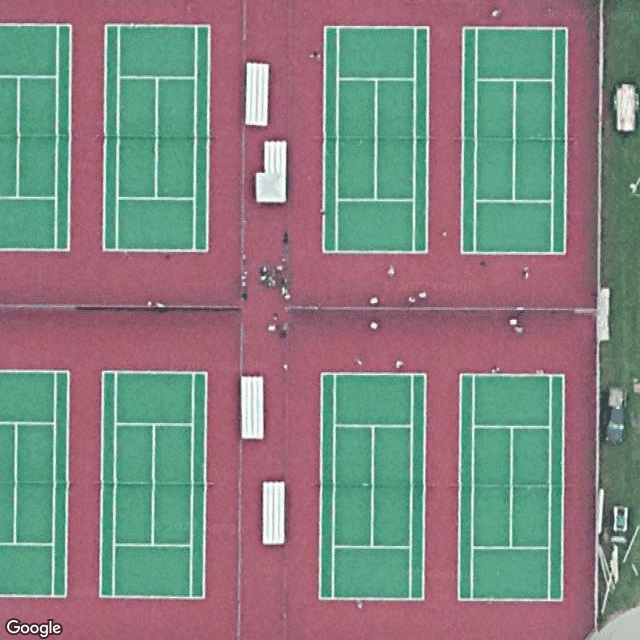Court: (459, 25, 569, 257), (320, 24, 430, 255), (102, 23, 212, 253), (318, 369, 427, 601), (98, 370, 207, 601), (456, 372, 564, 603), (0, 22, 73, 252), (0, 369, 70, 599)
